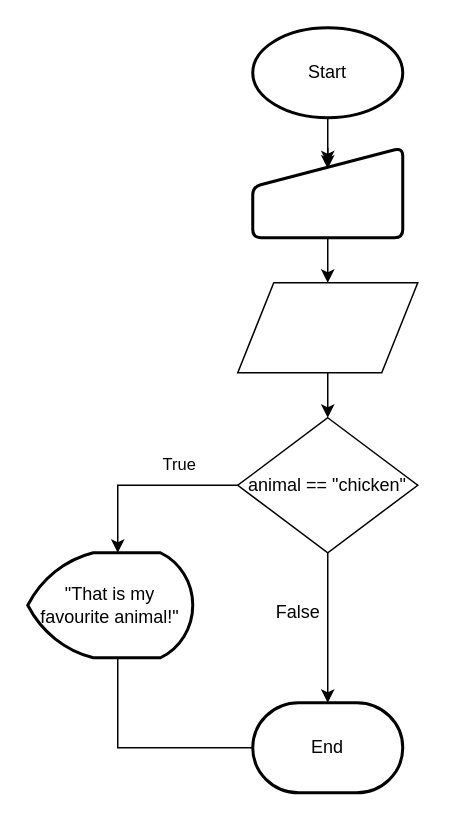
The diagram is 456 pixels wide and 819 high, and some of its shapes have lost their labels. The shapes that lost their labels are listed below. From the top down, each one's centre as x and y in pixels, then its label:
the point at 327,192: Get input from user
the point at 327,327: animal = input
